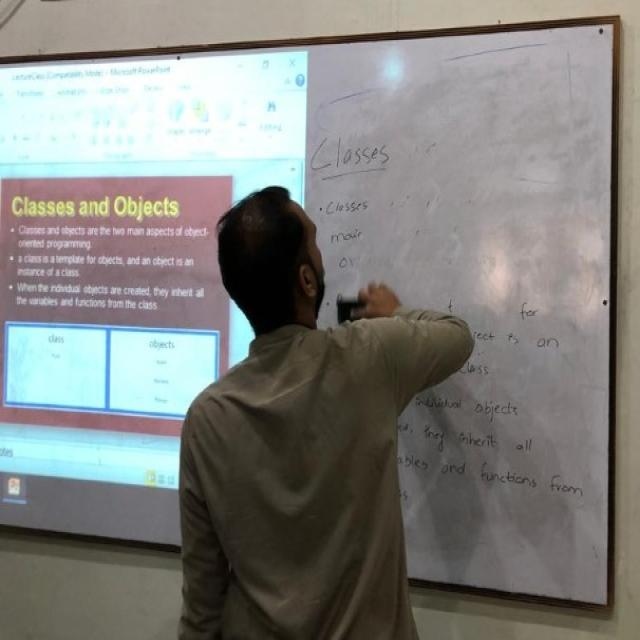Instructor: (187, 179, 413, 635)
Slide: (0, 55, 311, 563)
White-board: (0, 18, 618, 614)
